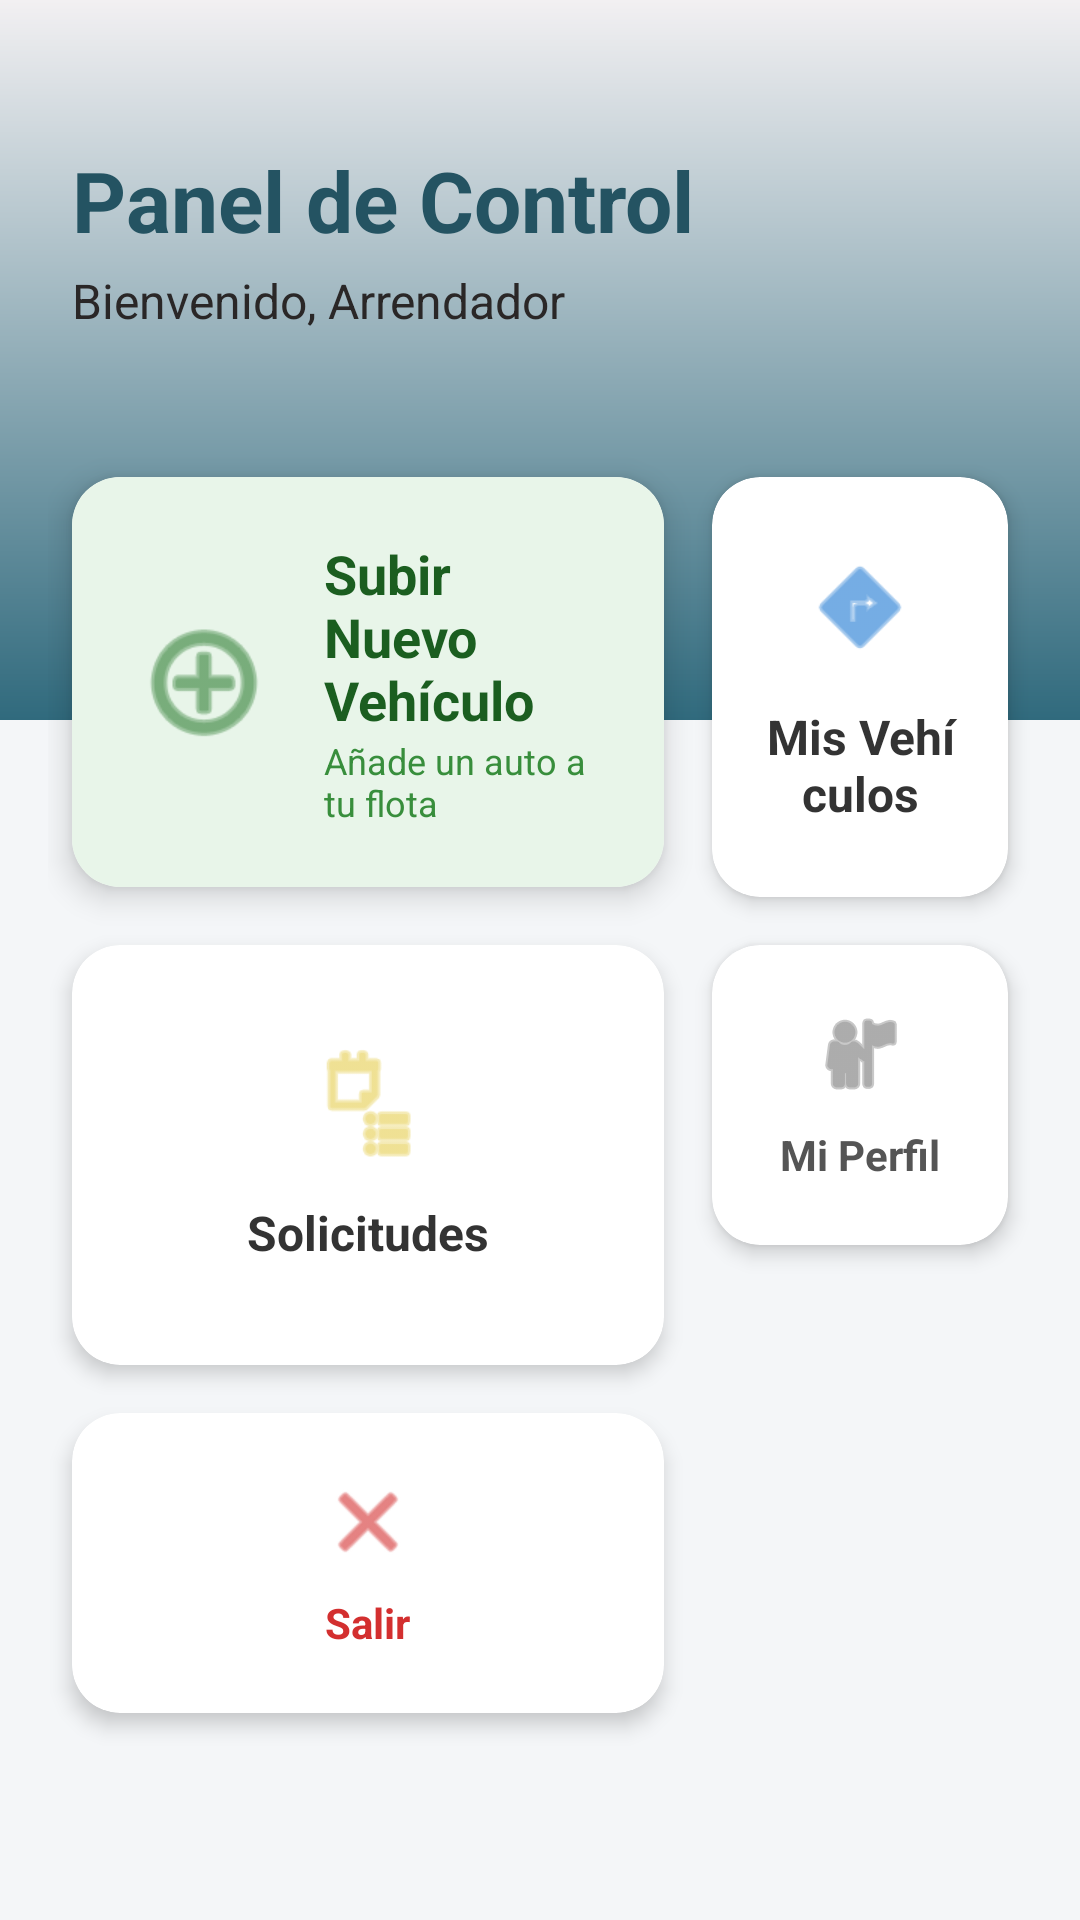

Icon click points for this 1080w x 1920h phone screenshot, format (x,y):
add: (204,682)
agenda: (369,1103)
close clear cancel: (368,1522)
directions: (860,607)
myplaces: (861,1054)
